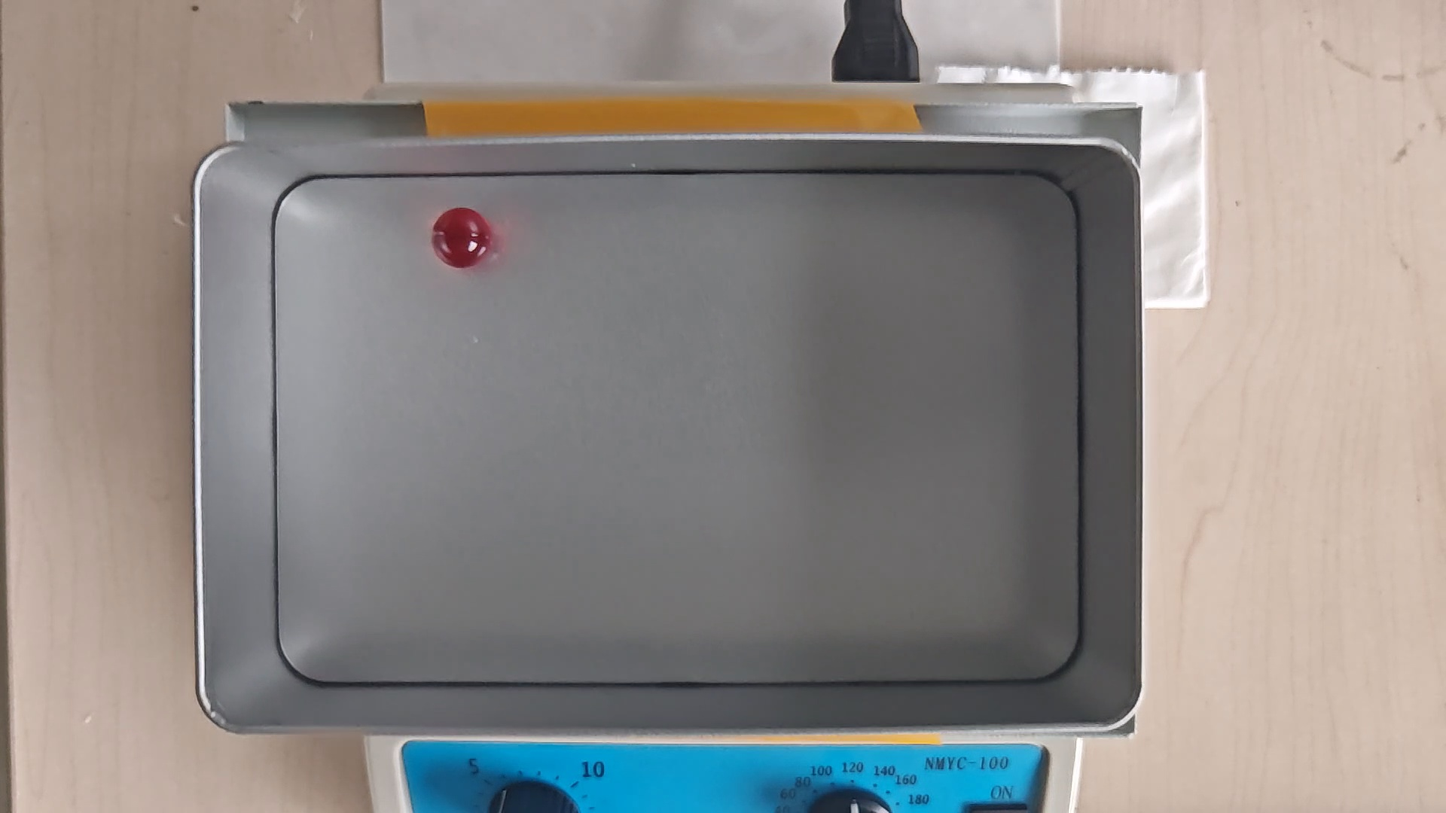ball: (430, 208, 494, 266)
container: (273, 174, 1080, 683)
